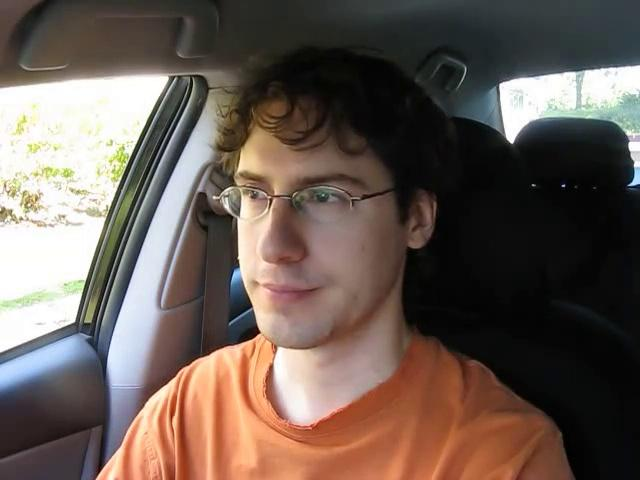no_yawn: (243, 269, 332, 318)
open_eyeL: (229, 180, 280, 215)
open_eyeR: (294, 175, 364, 221)
